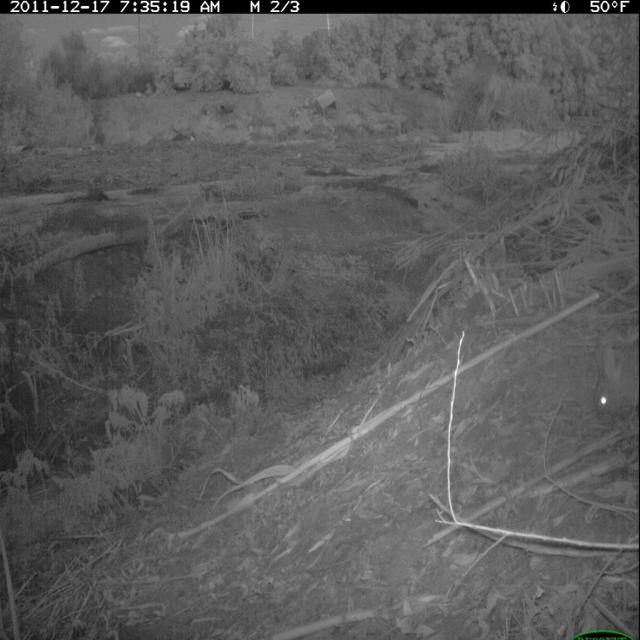rabbit: (582, 333, 637, 429)
